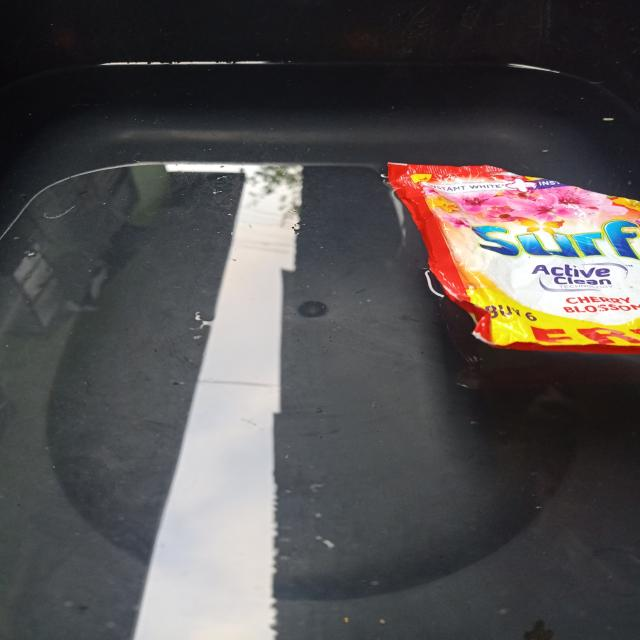Plastic Wrapper: (367, 133, 640, 351)
